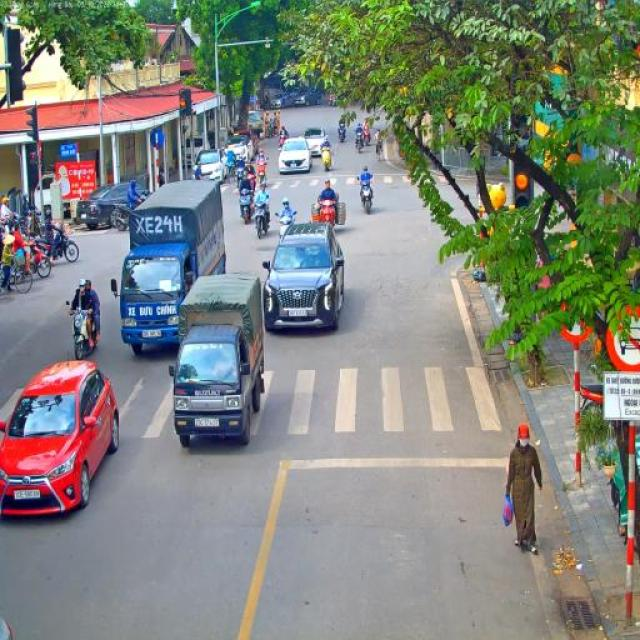car: (0, 360, 121, 520), (260, 222, 345, 333), (76, 182, 144, 230), (278, 136, 312, 175), (193, 149, 231, 183), (219, 132, 252, 166), (302, 126, 327, 158), (234, 129, 260, 157), (301, 89, 328, 107), (280, 92, 306, 108), (268, 92, 284, 109)
motorcycle: (66, 300, 99, 360), (110, 190, 150, 232), (11, 240, 51, 279), (46, 222, 80, 263), (250, 200, 271, 240), (274, 209, 298, 242), (356, 178, 374, 214), (239, 189, 255, 225), (320, 199, 338, 229), (0, 212, 20, 236), (224, 160, 238, 184), (321, 148, 333, 172), (244, 170, 257, 190), (256, 160, 266, 184), (354, 131, 364, 154), (362, 128, 372, 146), (338, 125, 347, 143), (278, 136, 286, 152)
truck: (110, 181, 228, 357), (168, 272, 266, 448), (242, 111, 264, 138), (264, 74, 282, 100)
